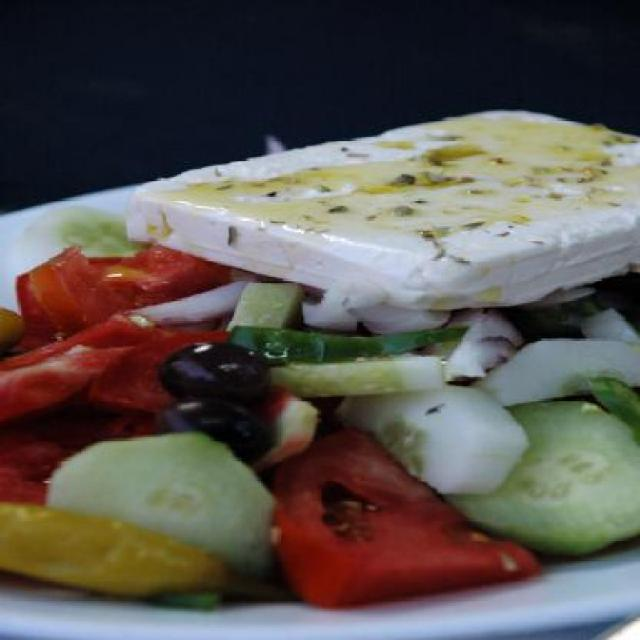Cheese: (118, 106, 640, 312)
